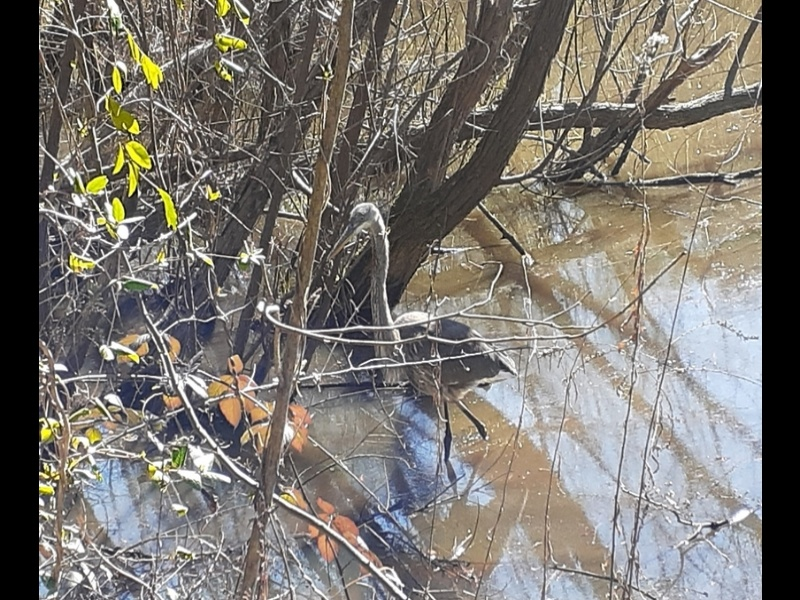heron: (329, 200, 511, 453)
